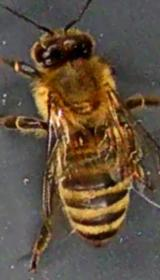varroa_mite: (62, 126, 90, 154)
